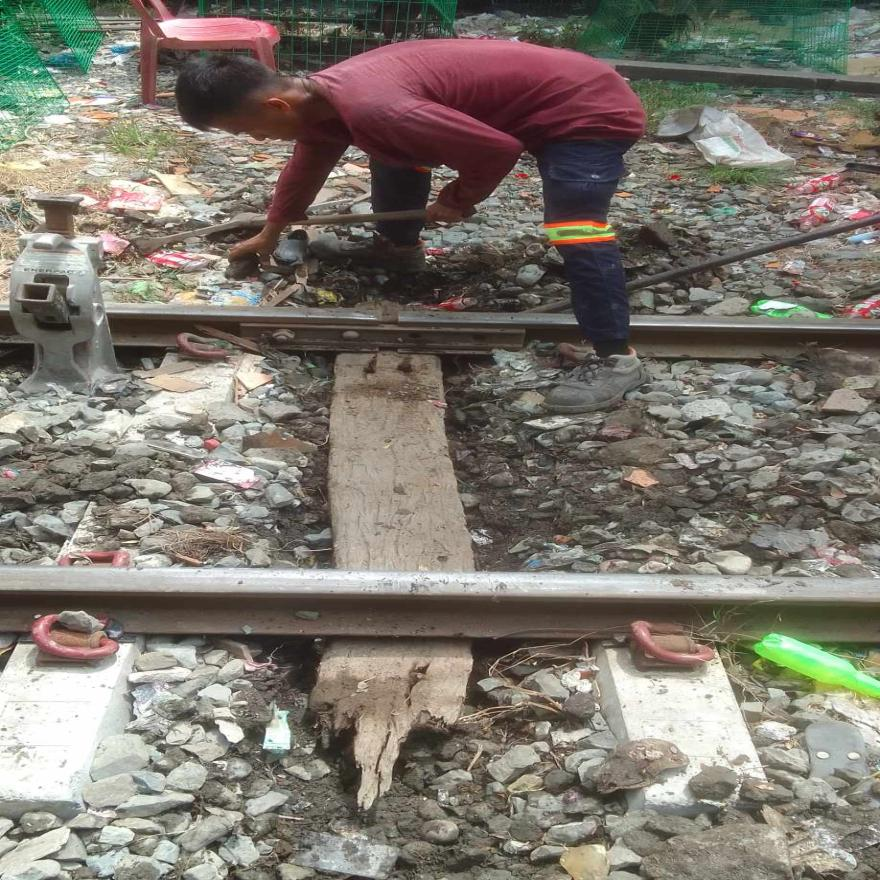railway-gap: (352, 301, 420, 334), (368, 339, 410, 358)
